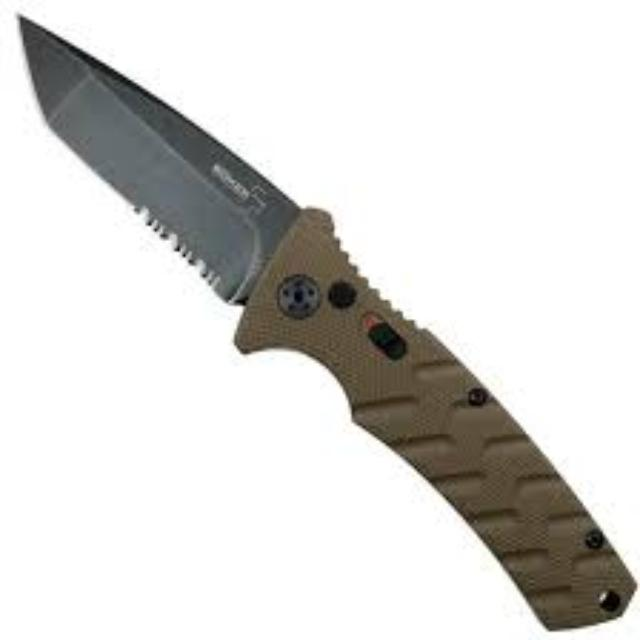Knife: (15, 11, 637, 631)
